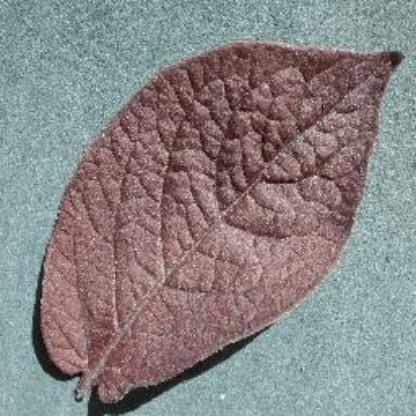Healthy-plant: (32, 31, 408, 406)
